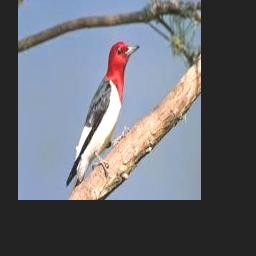Woodpecker: (66, 41, 139, 193)
